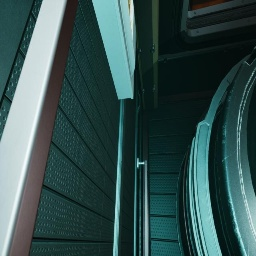SafetySwitchPanel ,: (92, 0, 137, 100)
